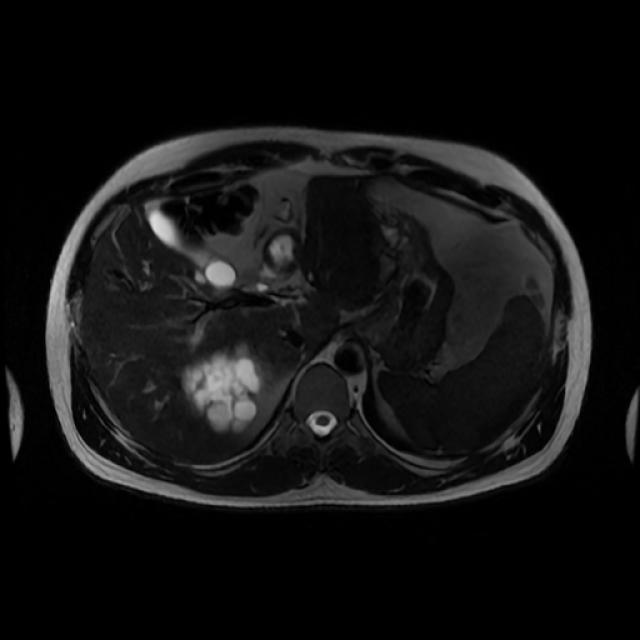sag: (183, 341, 264, 436)
